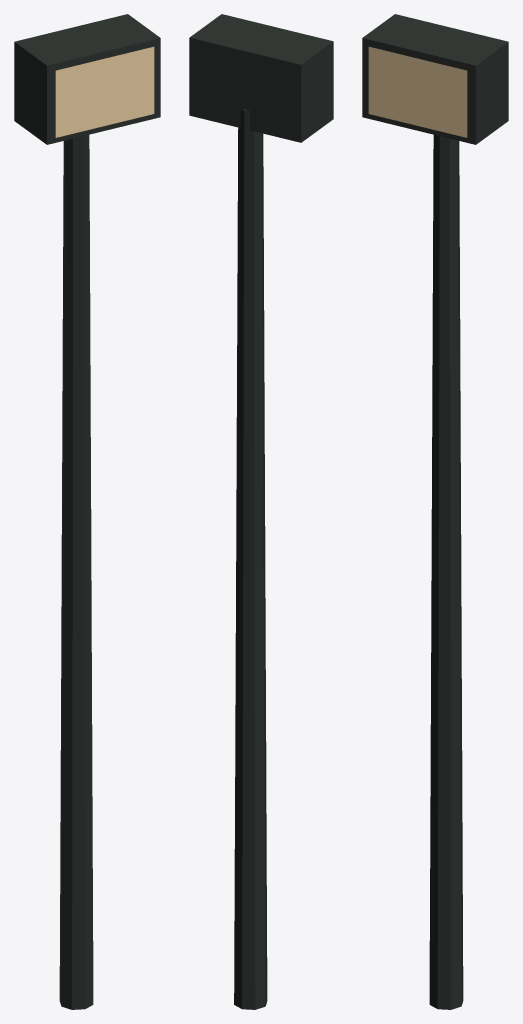
File: Prop_Floodlight.fbx
3 renders of one model, left to right at view 1: azimuth 30°, elevation 25°; view 2: azimuth 150°, elevation 25°; view 3: azimuth 330°, elevation 25°, orthographic.
Parts seen in each view (by area): view 1: Prop_Floodlight; view 2: Prop_Floodlight; view 3: Prop_Floodlight.
Part boxes in pixels (box(x1,y1,x2,y2)): Prop_Floodlight: box(14, 14, 160, 1009); Prop_Floodlight: box(189, 14, 333, 1009); Prop_Floodlight: box(362, 14, 508, 1009).
Size of the model in its own units: 0.6 by 4.9 by 0.34.
